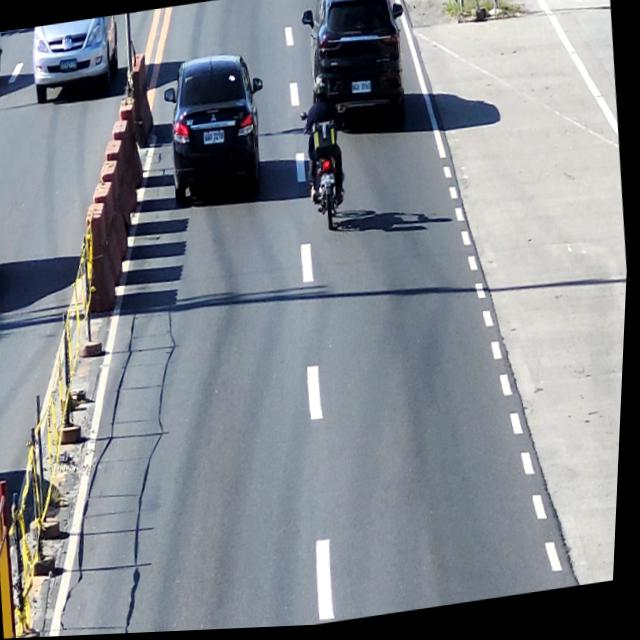Car: (158, 38, 272, 217), (297, 0, 414, 133), (26, 16, 122, 110), (0, 108, 14, 324)
License-Plate: (200, 124, 228, 154), (348, 73, 375, 104), (59, 55, 81, 75)
Motorcycle: (298, 101, 360, 244), (317, 171, 340, 194)
